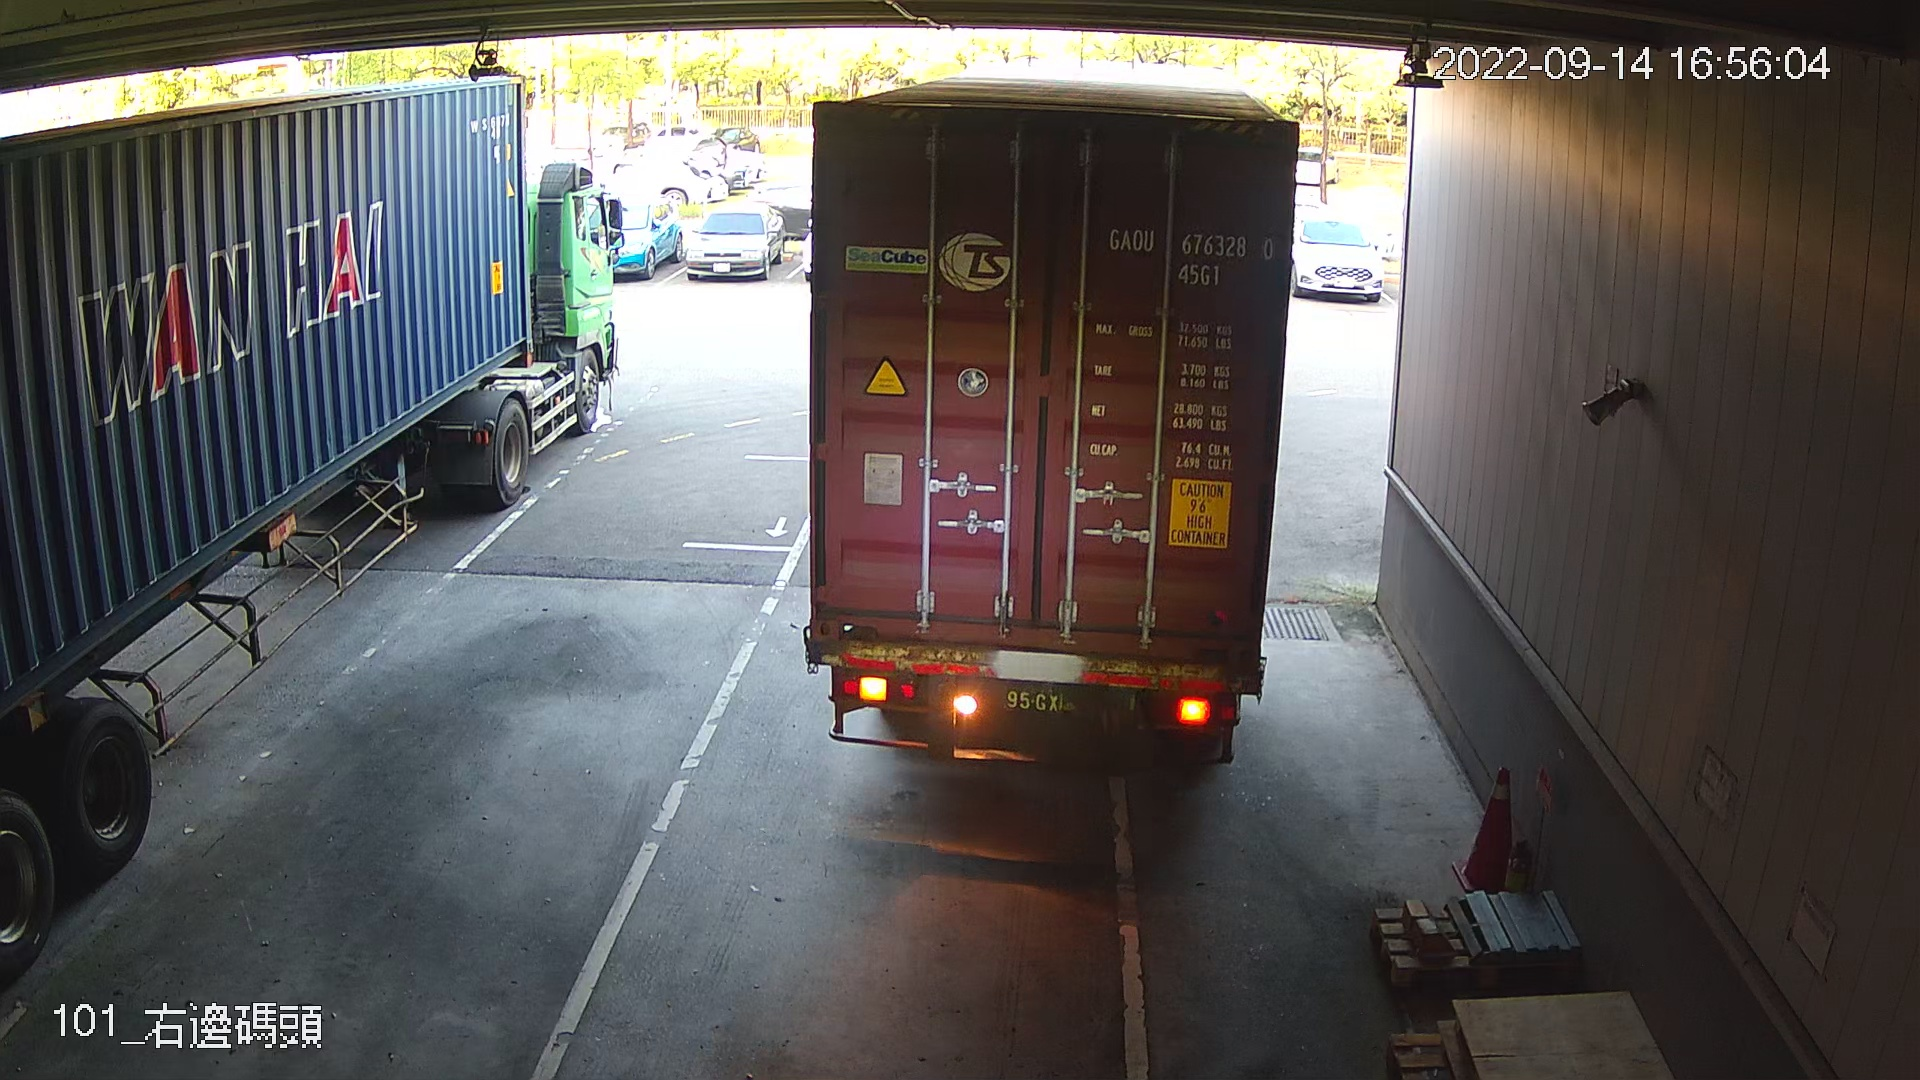container: (1100, 218, 1282, 291)
